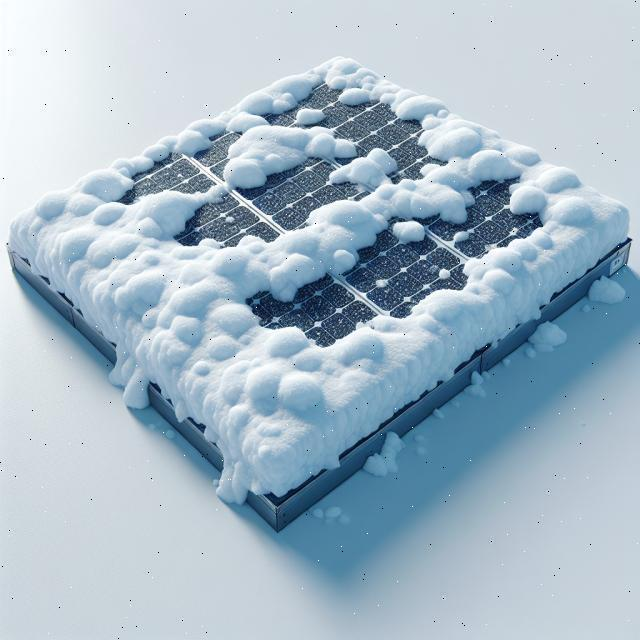Anomaly Solar Panel: (10, 0, 626, 502)
Snow: (4, 0, 628, 506), (291, 101, 327, 127)
